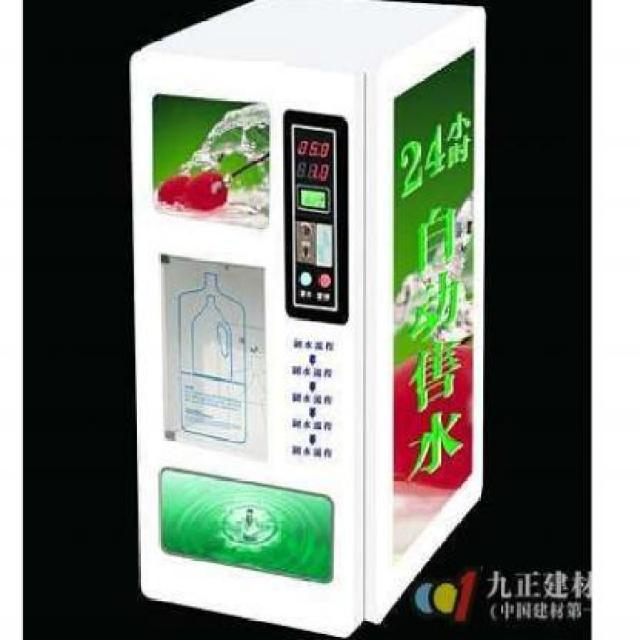cooler: (129, 0, 497, 638)
